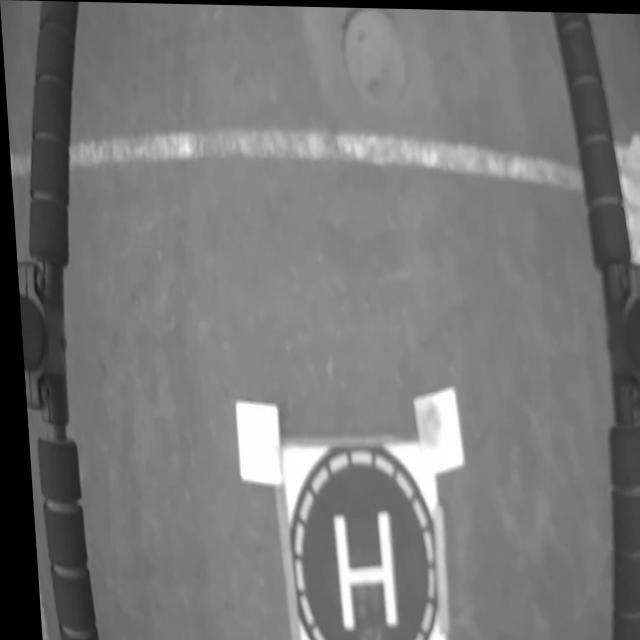Helipad: (326, 508, 390, 631)
